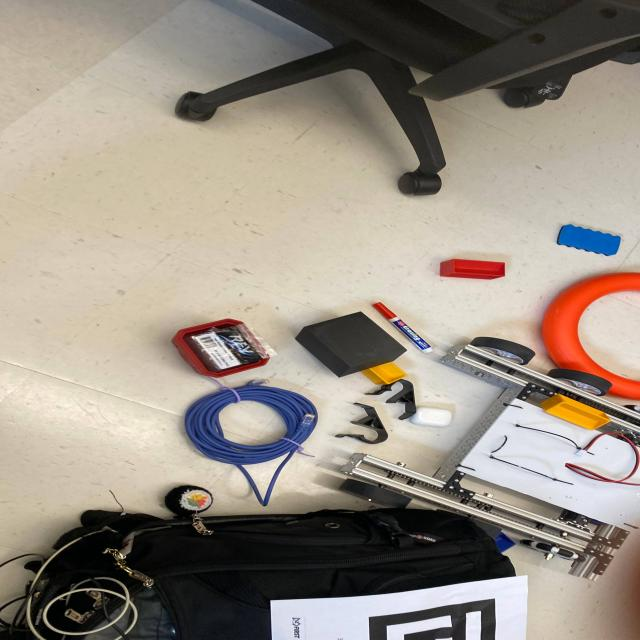blue-specimen: (494, 532, 515, 553)
red-specimen: (440, 259, 505, 279)
yellow-specimen: (539, 394, 610, 430), (361, 362, 406, 384)
